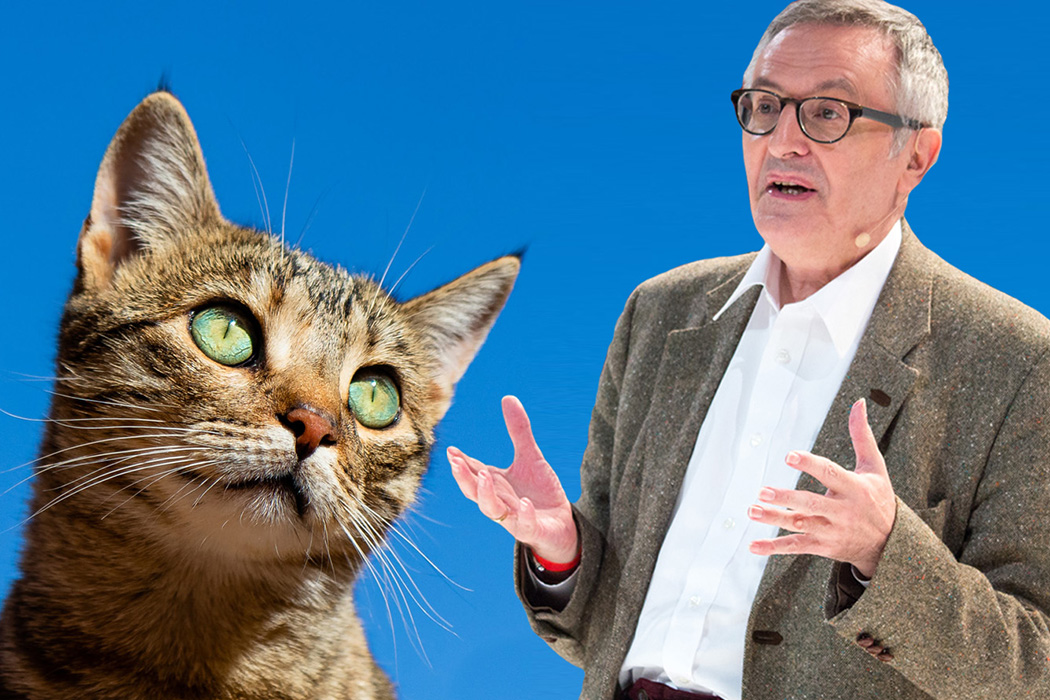cat: (34, 69, 556, 583)
